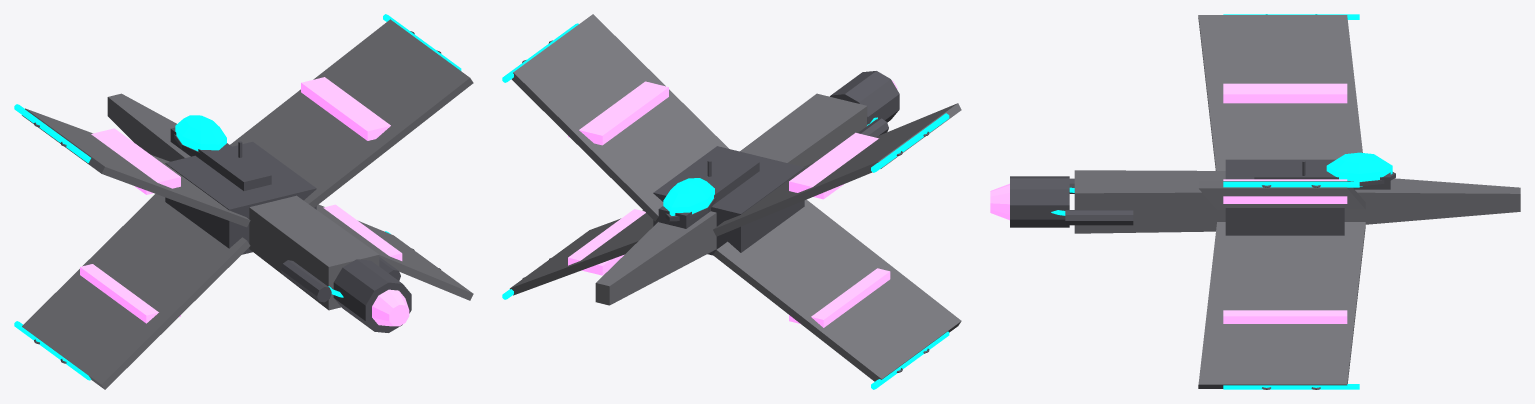
File: player 1.fbx
3 views of the same model, side by side, from view 1: azimuth 30°, elevation 25°; view 2: azimuth 150°, elevation 25°; view 3: azimuth 270°, elevation 25° (orthographic). The views are drawn at different scales.
Visible parts, largest first — view 1: Player; view 2: Player; view 3: Player.
Boxes of the visible parts, left/top/right/bottom form: Player: left=14, top=14, right=473, bottom=389; Player: left=502, top=14, right=961, bottom=389; Player: left=990, top=14, right=1520, bottom=389.
Size of the model in its own units: 330 by 185 by 428.
